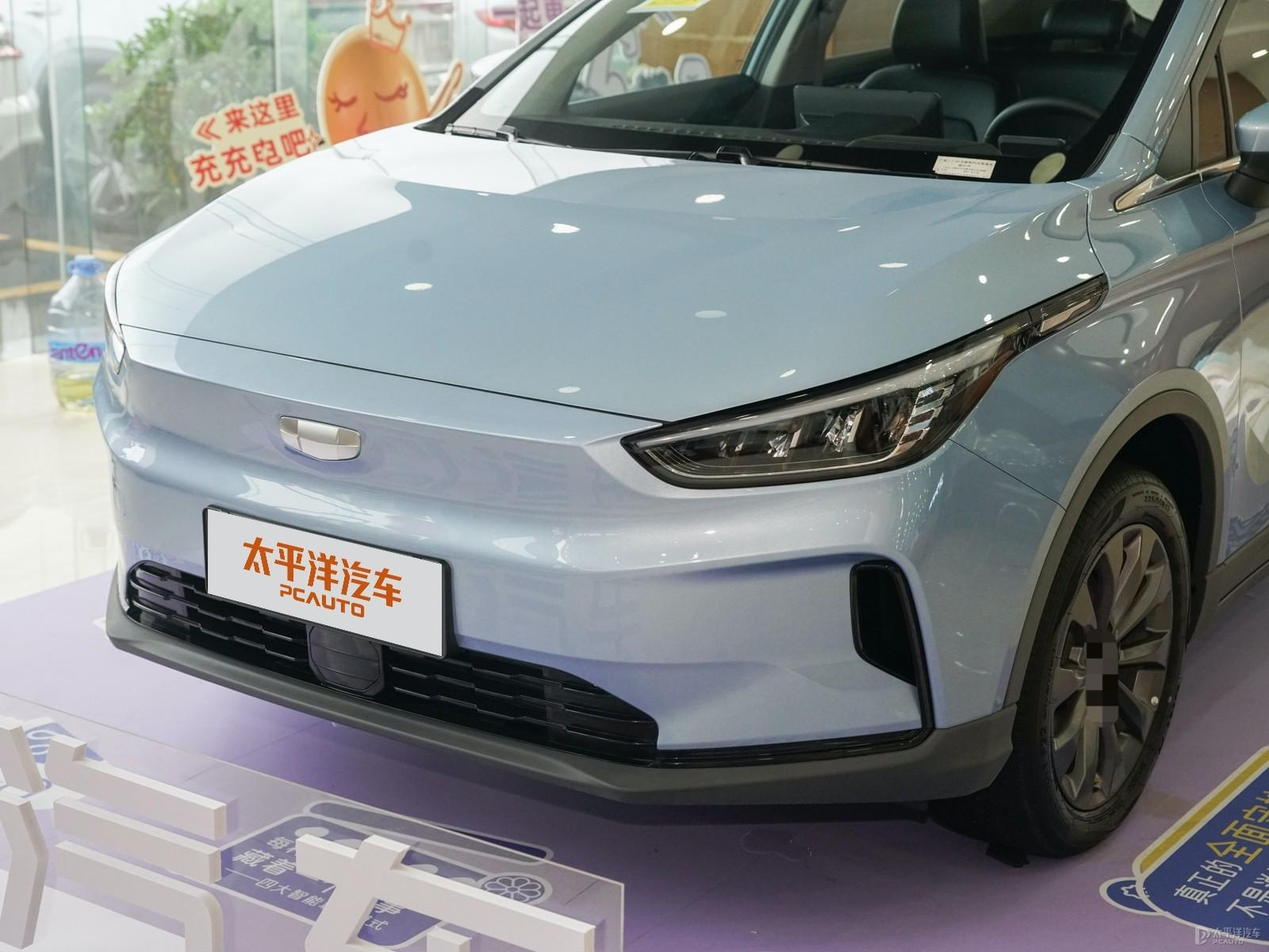GEOMETRY: (281, 417, 358, 459)
